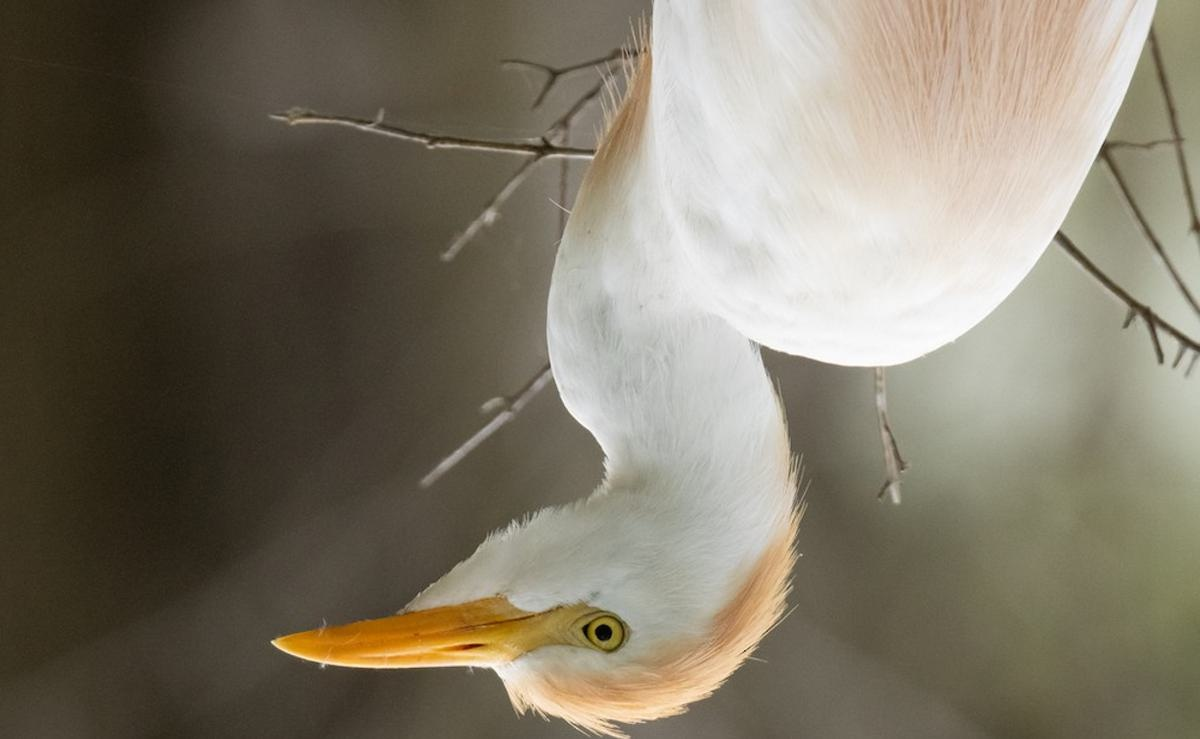egret: (254, 1, 1132, 724)
